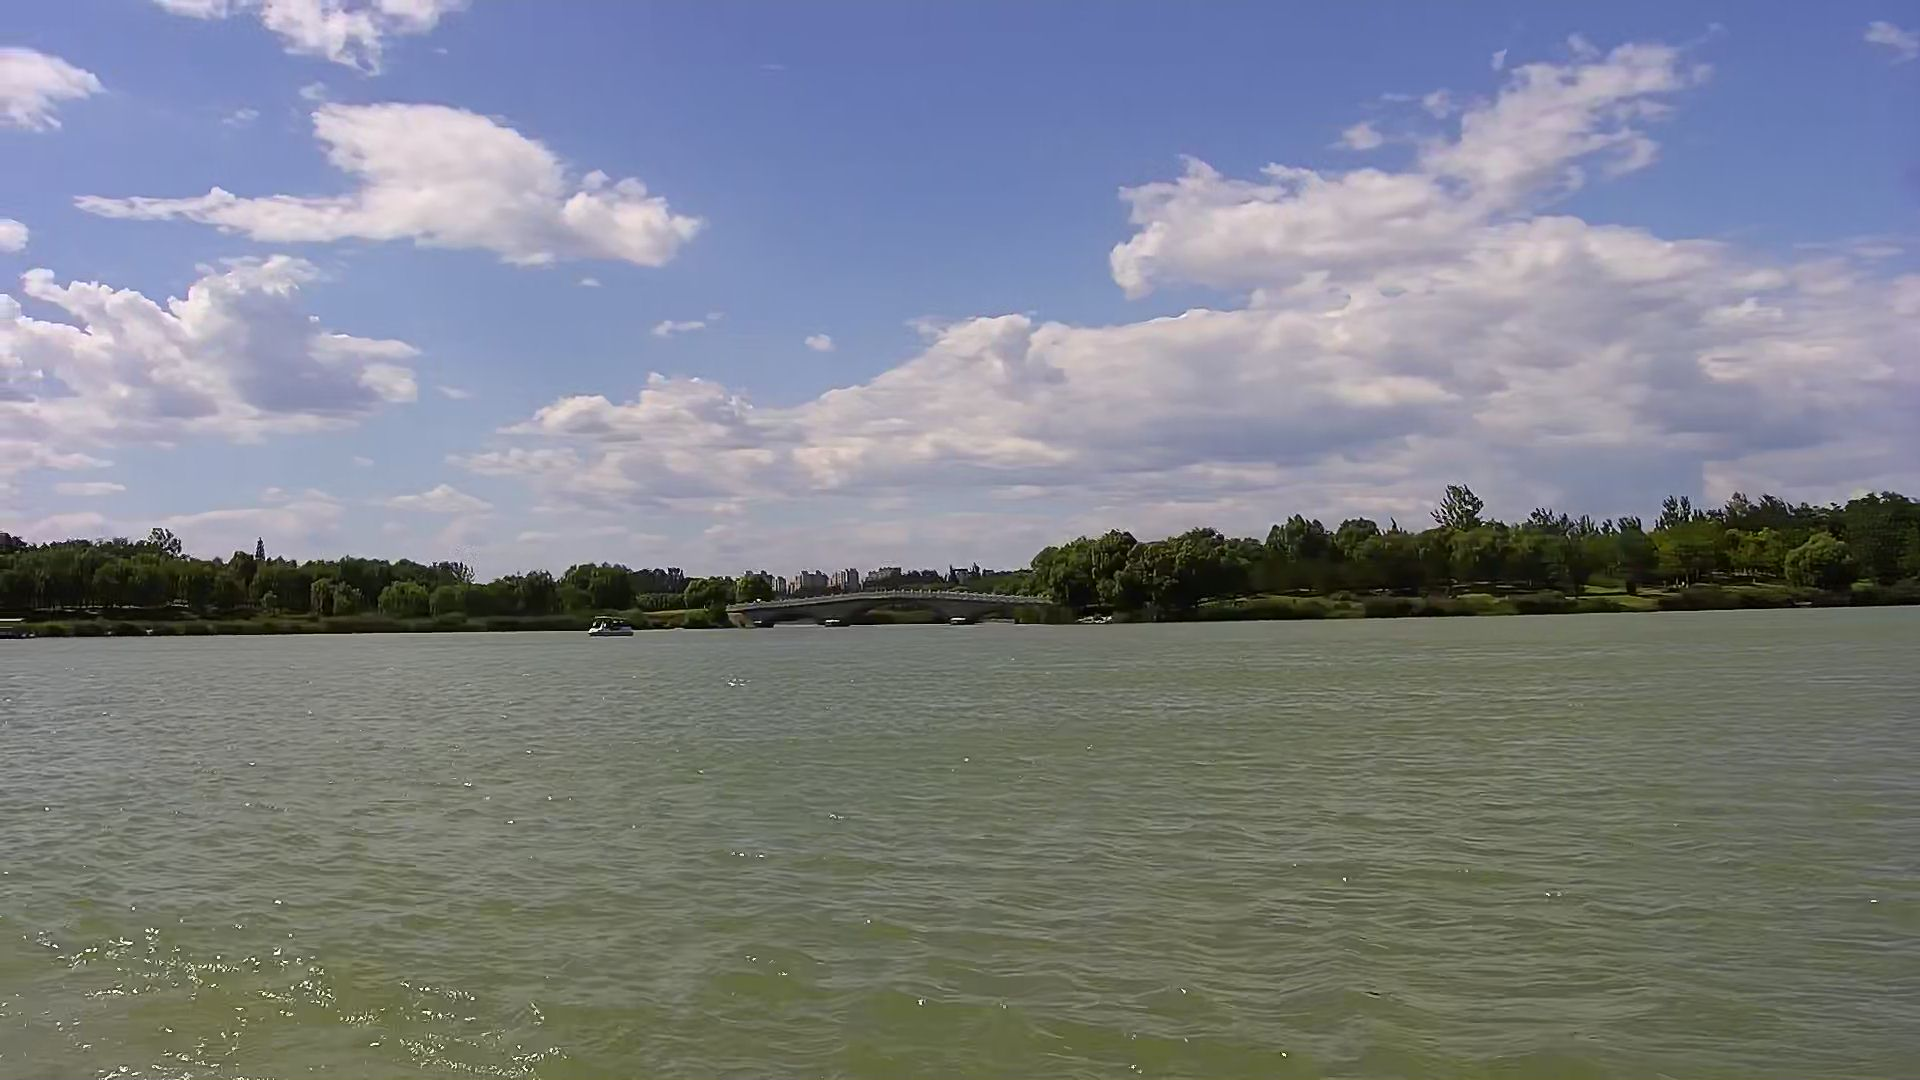boat: (588, 612, 640, 636)
bridge: (733, 588, 1058, 622)
